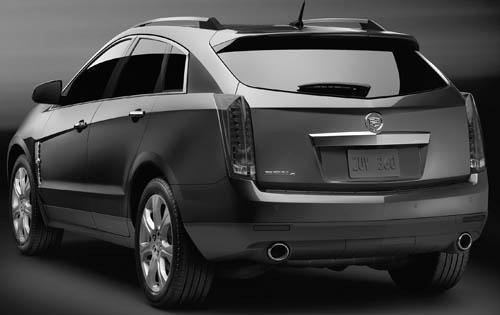car: (7, 1, 491, 313)
